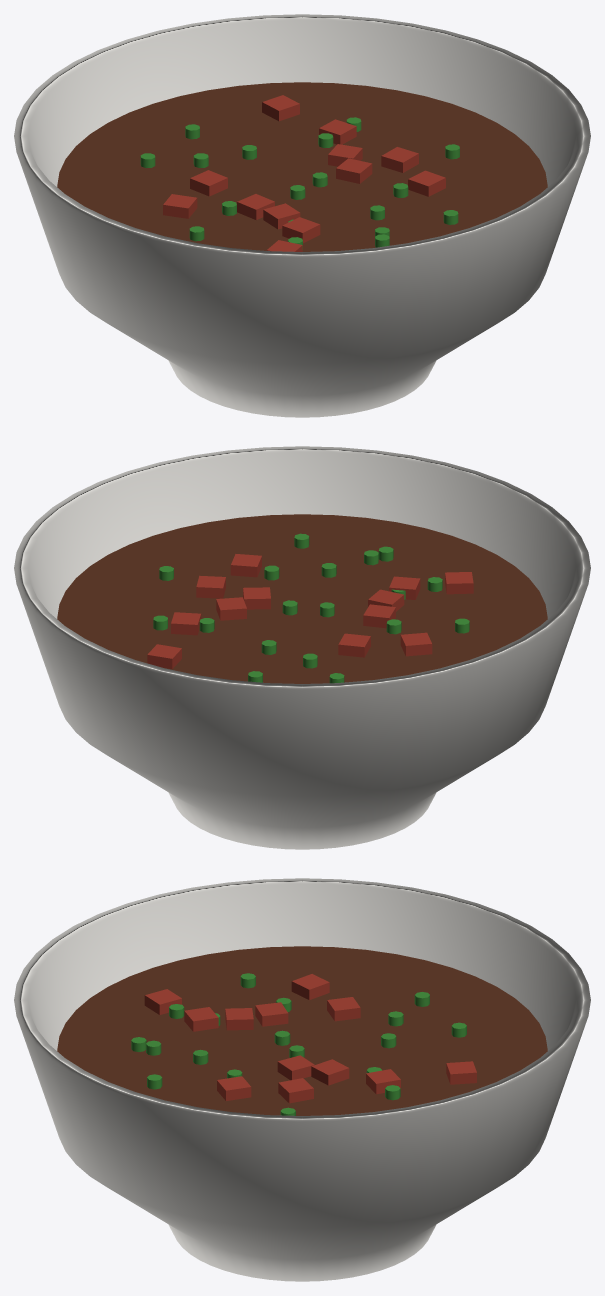
File: caldo-feijao.glb
3 views of the same model, one above another, from view 1: azimuth 30°, elevation 25°; view 2: azimuth 150°, elevation 25°; view 3: azimuth 270°, elevation 25° (orthographic).
Parts seen in each view (by area): view 1: caldo-feijao; view 2: caldo-feijao; view 3: caldo-feijao.
Part boxes in pixels (left/top/right/bottom): caldo-feijao: left=14, top=14, right=590, bottom=417; caldo-feijao: left=14, top=446, right=590, bottom=849; caldo-feijao: left=14, top=878, right=590, bottom=1281.
Size of the model in its own units: 0.15 by 0.065 by 0.15.
